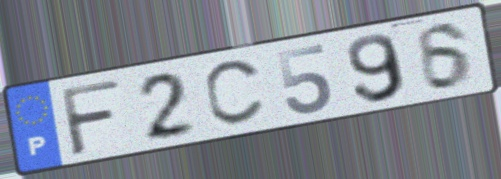2: (136, 70, 199, 145)
5: (275, 41, 335, 116)
6: (413, 22, 477, 93)
9: (344, 32, 409, 106)
C: (201, 56, 268, 129)
F: (57, 77, 124, 159)
